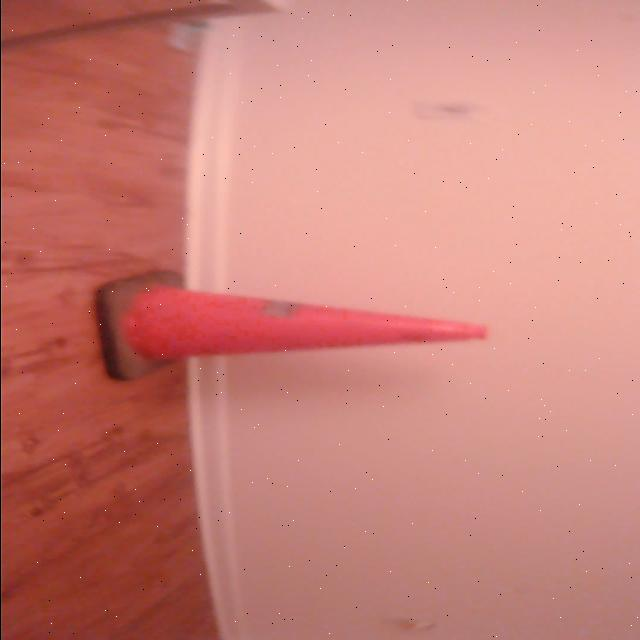traffic cone: (90, 268, 498, 387)
